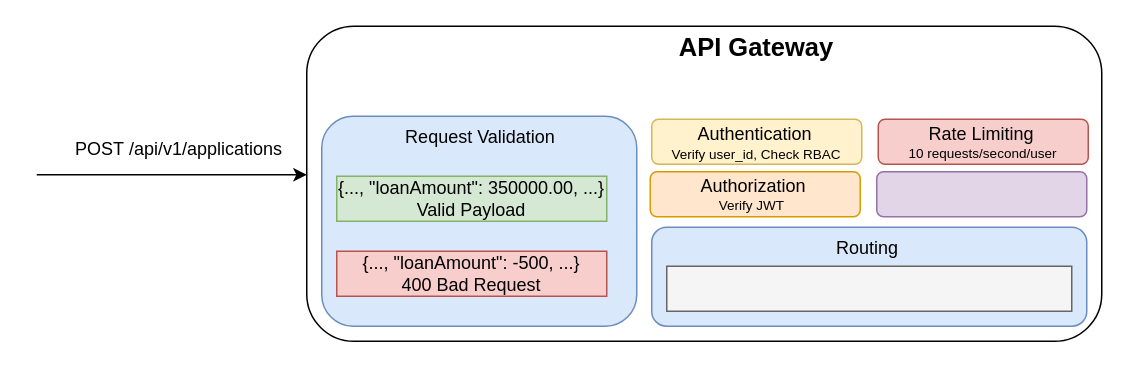
Image size: 1128x368. Some labels were removed from this diagram. Here are the shapes that lost their labels. From the top down, the centre of each, then its label:
At point 981,193: "Logging".
At point 868,288: "/api/v1/applications/** -> http://app-service".
